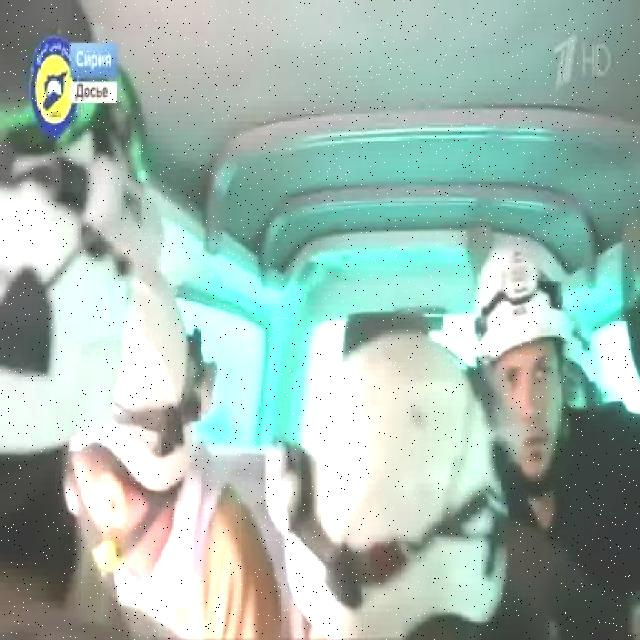Helmet: (262, 326, 510, 639), (0, 119, 171, 467), (67, 249, 221, 500), (474, 229, 566, 368)
